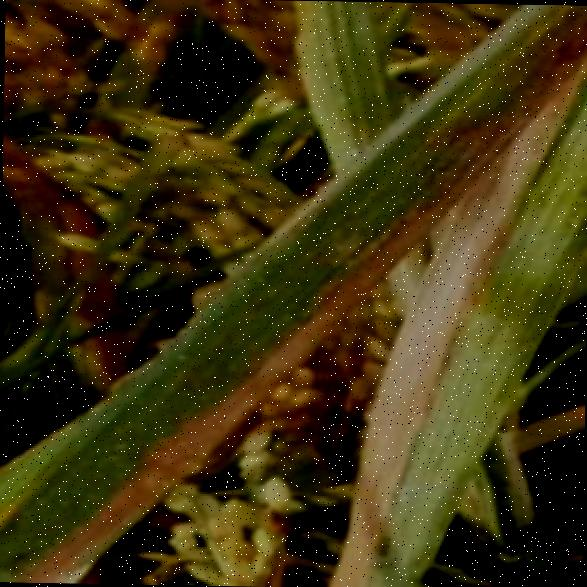Bacteria_Leaf_Blight: (0, 318, 222, 584), (434, 124, 566, 450)
